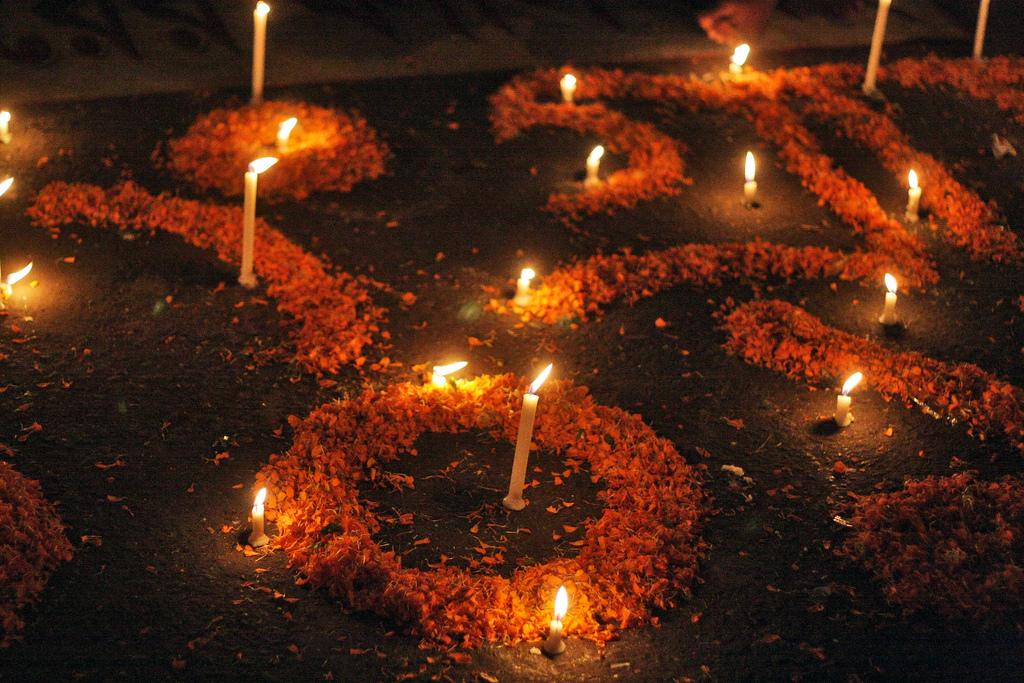fire: (743, 147, 782, 182), (547, 583, 575, 628), (515, 258, 545, 297), (432, 358, 463, 387), (245, 143, 270, 173), (525, 363, 557, 383)
